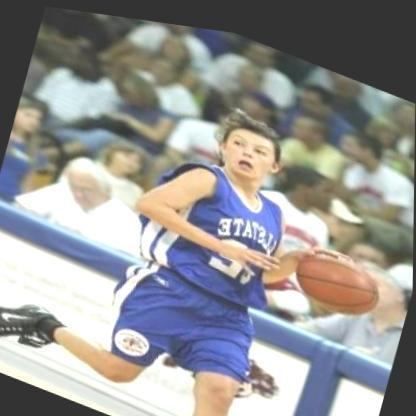basketball: (286, 229, 391, 322)
